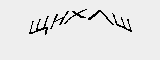Л: (88, 10, 112, 25)
Н: (50, 8, 68, 27)
Х: (69, 7, 88, 24)
Ш: (113, 15, 133, 32)
Щ: (27, 15, 46, 36)
